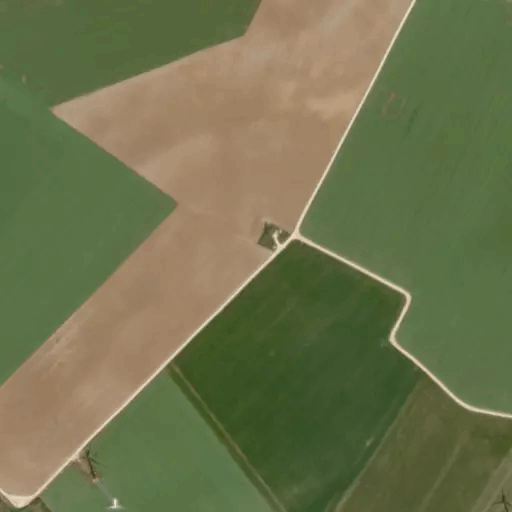wt: (73, 441, 131, 511), (485, 485, 512, 512)
